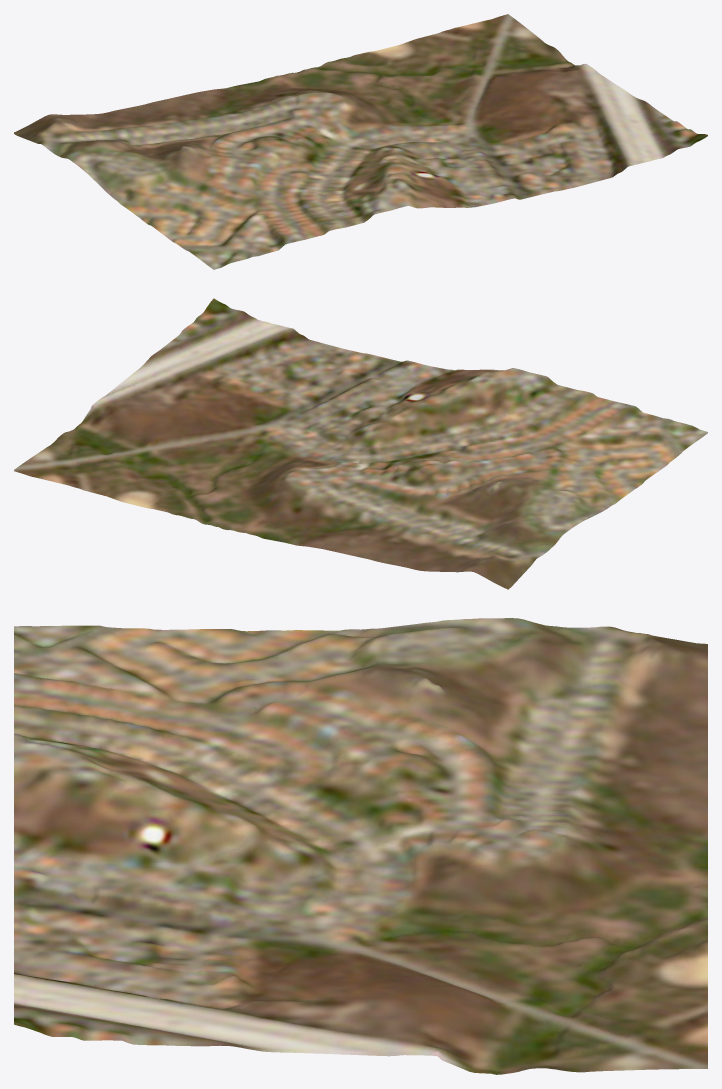
Rendered from terrain_r0_c7.glb.
The picture shows the model from 3 angles, top to bottom: view 1: azimuth 30°, elevation 25°; view 2: azimuth 150°, elevation 25°; view 3: azimuth 270°, elevation 25°; orthographic projection. The views are drawn at different scales.
Parts seen in each view (by area): view 1: terrain_r0_c7_lod0; view 2: terrain_r0_c7_lod0; view 3: terrain_r0_c7_lod0.
Part boxes in pixels (x1,y1,x2,y2): terrain_r0_c7_lod0: (14, 14, 707, 269); terrain_r0_c7_lod0: (14, 298, 707, 589); terrain_r0_c7_lod0: (14, 618, 707, 1074).
Bounding box in the file's own units: 1125 × 81.85 × 787.
Materials: 1 (1 with a texture image).
